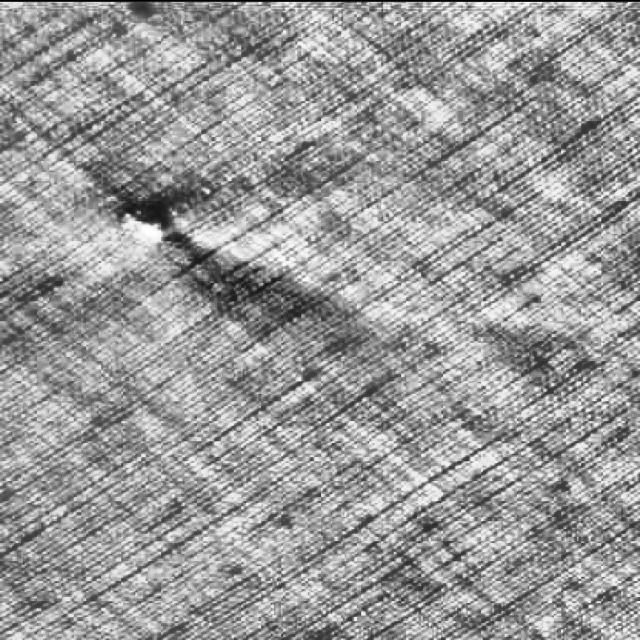hole: (117, 199, 178, 254)
